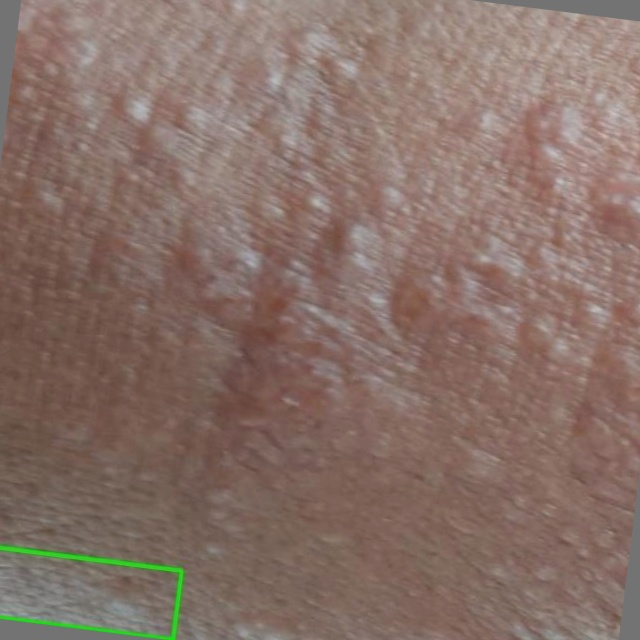Seborrheic Dermatitis: (0, 548, 181, 639)
